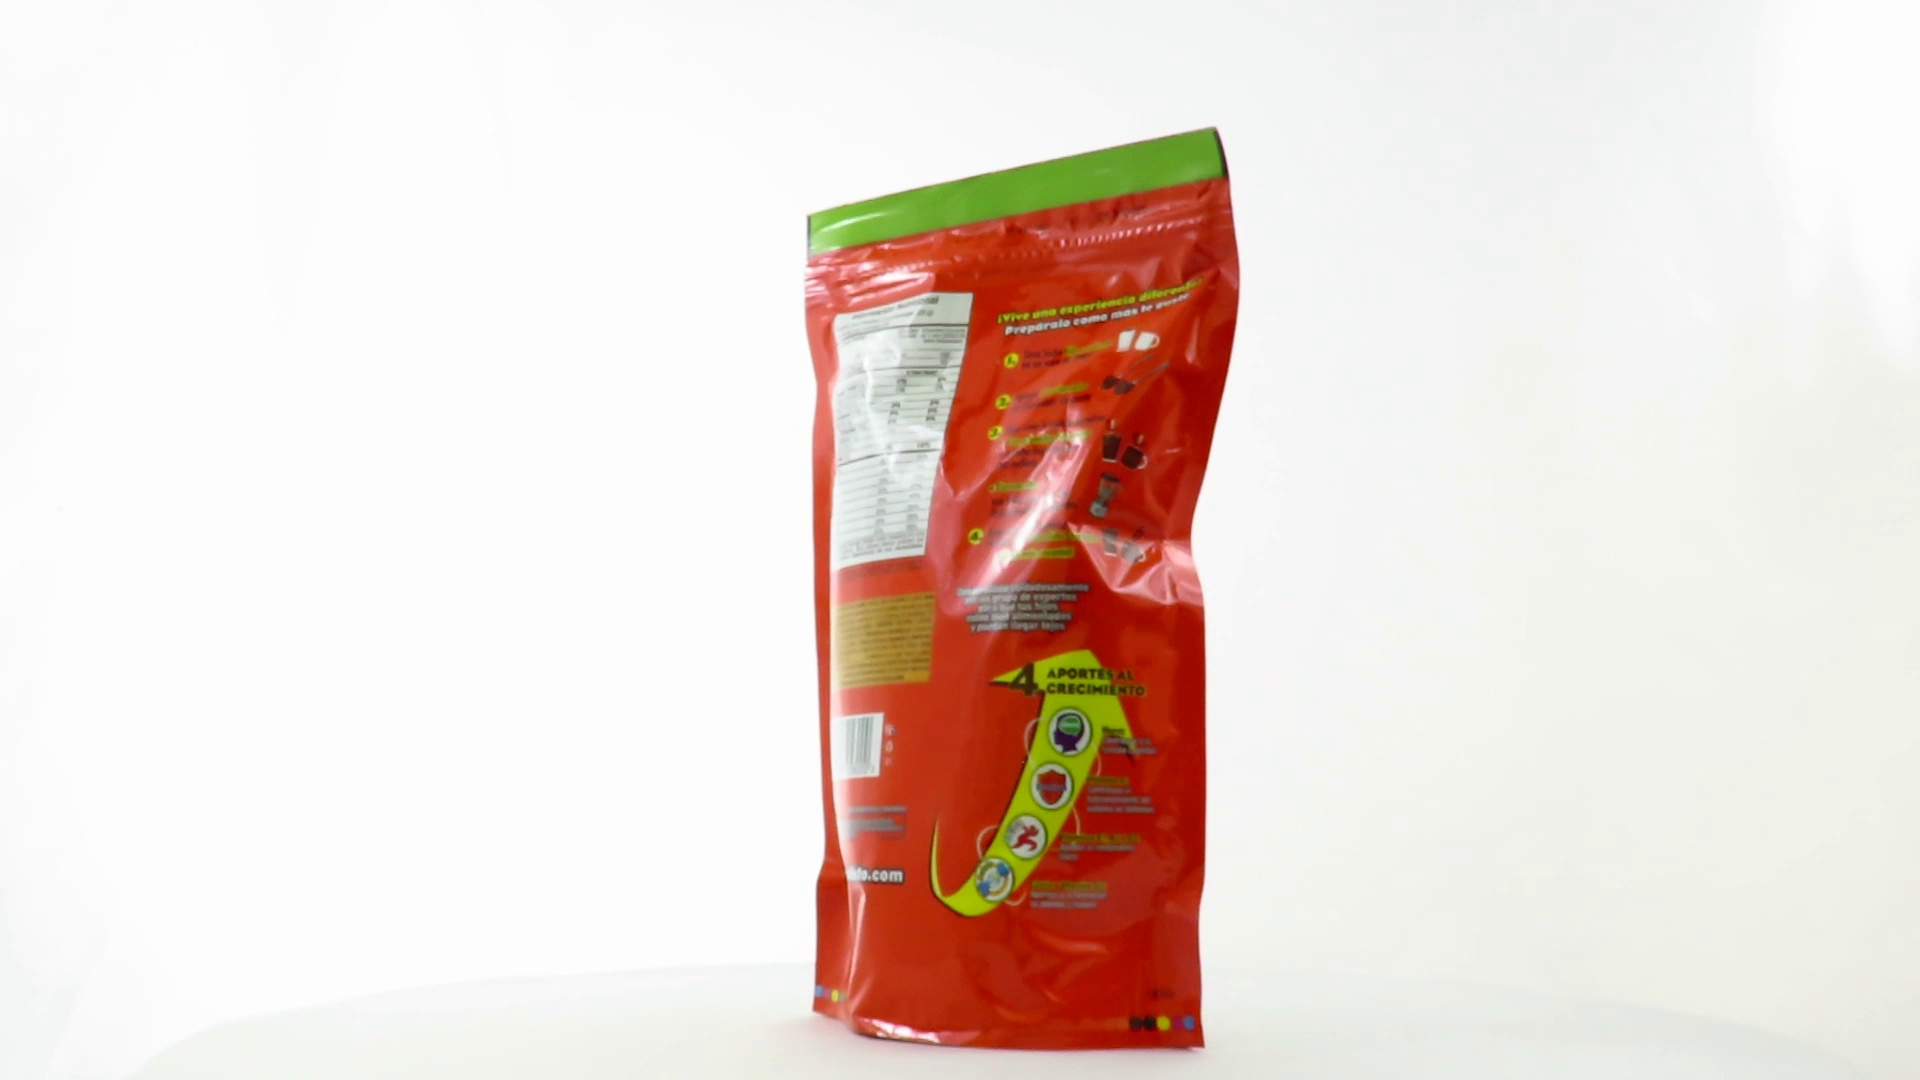COL0170102DYP50000: (799, 121, 1246, 1060)
